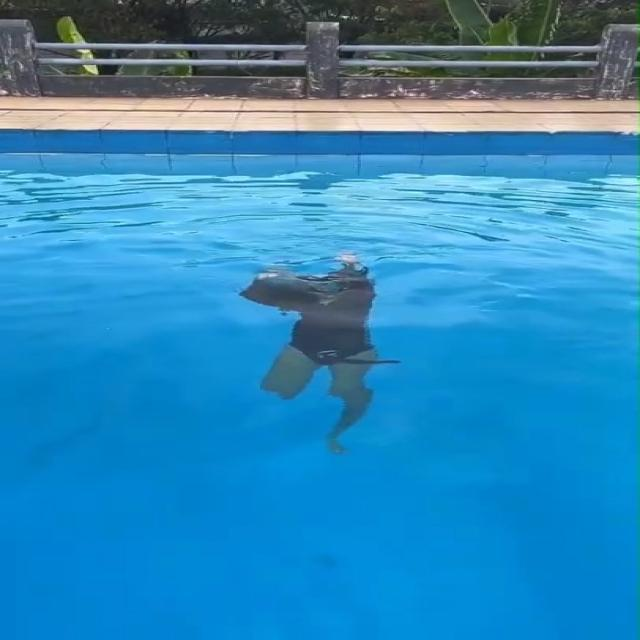Drowning: (236, 253, 413, 457)
